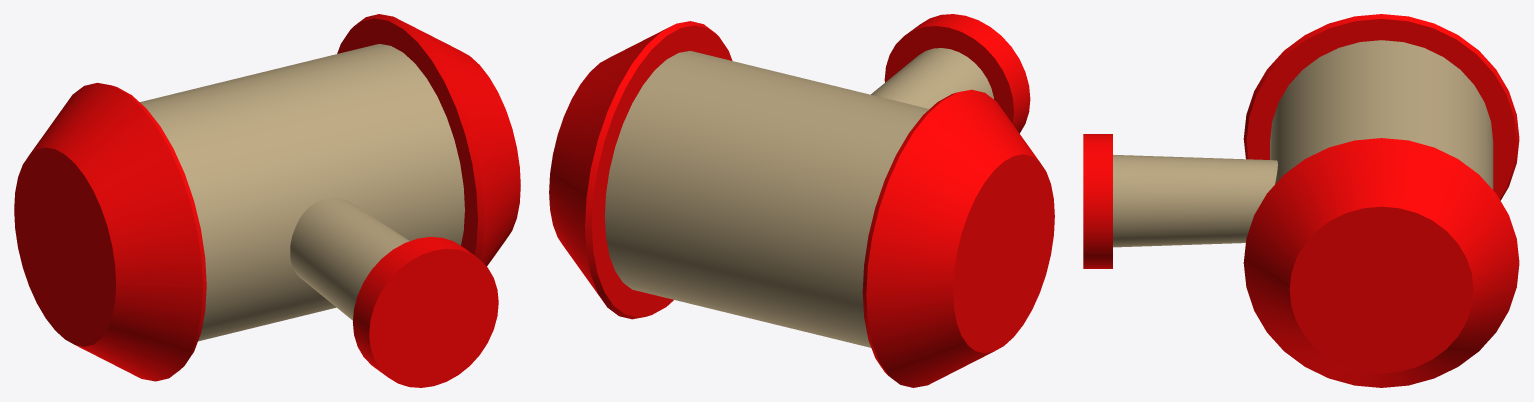
The model's file is Hammer.fbx.
3 views of the same model, side by side, from view 1: azimuth 30°, elevation 25°; view 2: azimuth 150°, elevation 25°; view 3: azimuth 270°, elevation 25° (orthographic). The views are drawn at different scales.
Visible parts, largest first — view 1: Cylinder001; view 2: Cylinder001; view 3: Cylinder001.
Part boxes in pixels (x1,y1,x2,y2): Cylinder001: (14,14,520,387); Cylinder001: (549,14,1054,387); Cylinder001: (1083,14,1519,387).
Bounding box in the file's own units: 117 × 76.8 × 121.
